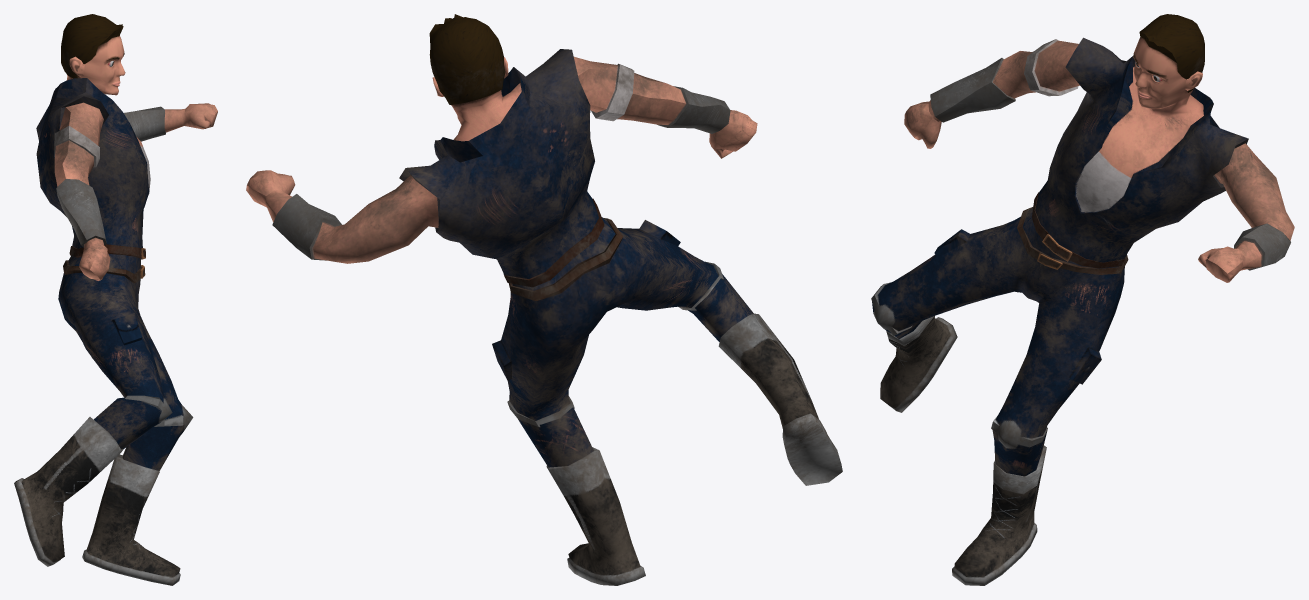
The model's file is Anim_ataque_f1_jugador.0017.obj.
3 views of the same model, side by side, from view 1: azimuth 30°, elevation 25°; view 2: azimuth 150°, elevation 25°; view 3: azimuth 270°, elevation 25° (orthographic). The views are drawn at different scales.
Visible parts, largest first — view 1: polySurface1; view 2: polySurface1; view 3: polySurface1.
Boxes of the visible parts, left/top/right/bottom form: polySurface1: left=14, top=14, right=217, bottom=585; polySurface1: left=246, top=14, right=842, bottom=585; polySurface1: left=871, top=14, right=1294, bottom=585.
Size of the model in its own units: 6.27 by 9 by 6.08.
